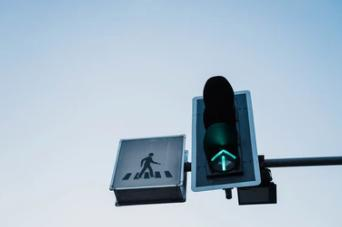green_light: (191, 76, 261, 191)
